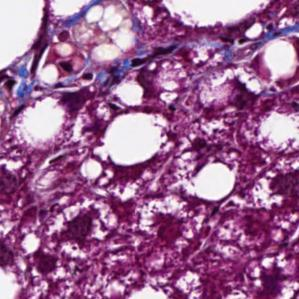inflammation: (44, 200, 116, 261), (54, 58, 98, 106), (125, 37, 179, 70)
